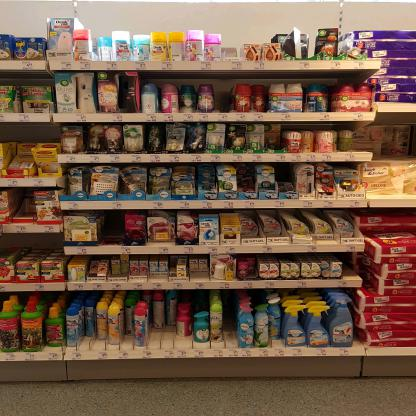Void: (376, 117, 413, 155), (0, 235, 61, 258), (0, 126, 60, 143), (214, 83, 233, 112), (229, 299, 240, 347), (236, 165, 257, 188), (100, 218, 125, 237), (154, 326, 173, 350), (18, 189, 35, 213), (276, 167, 293, 185), (83, 339, 96, 347)
